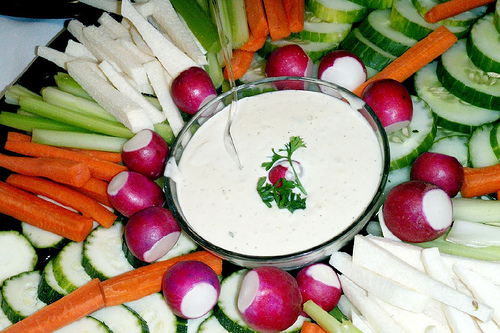cucumber: (406, 56, 498, 132), (361, 9, 419, 56), (461, 9, 498, 76)
